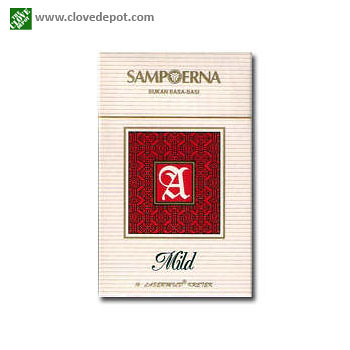A Mild: (98, 119, 250, 296)
